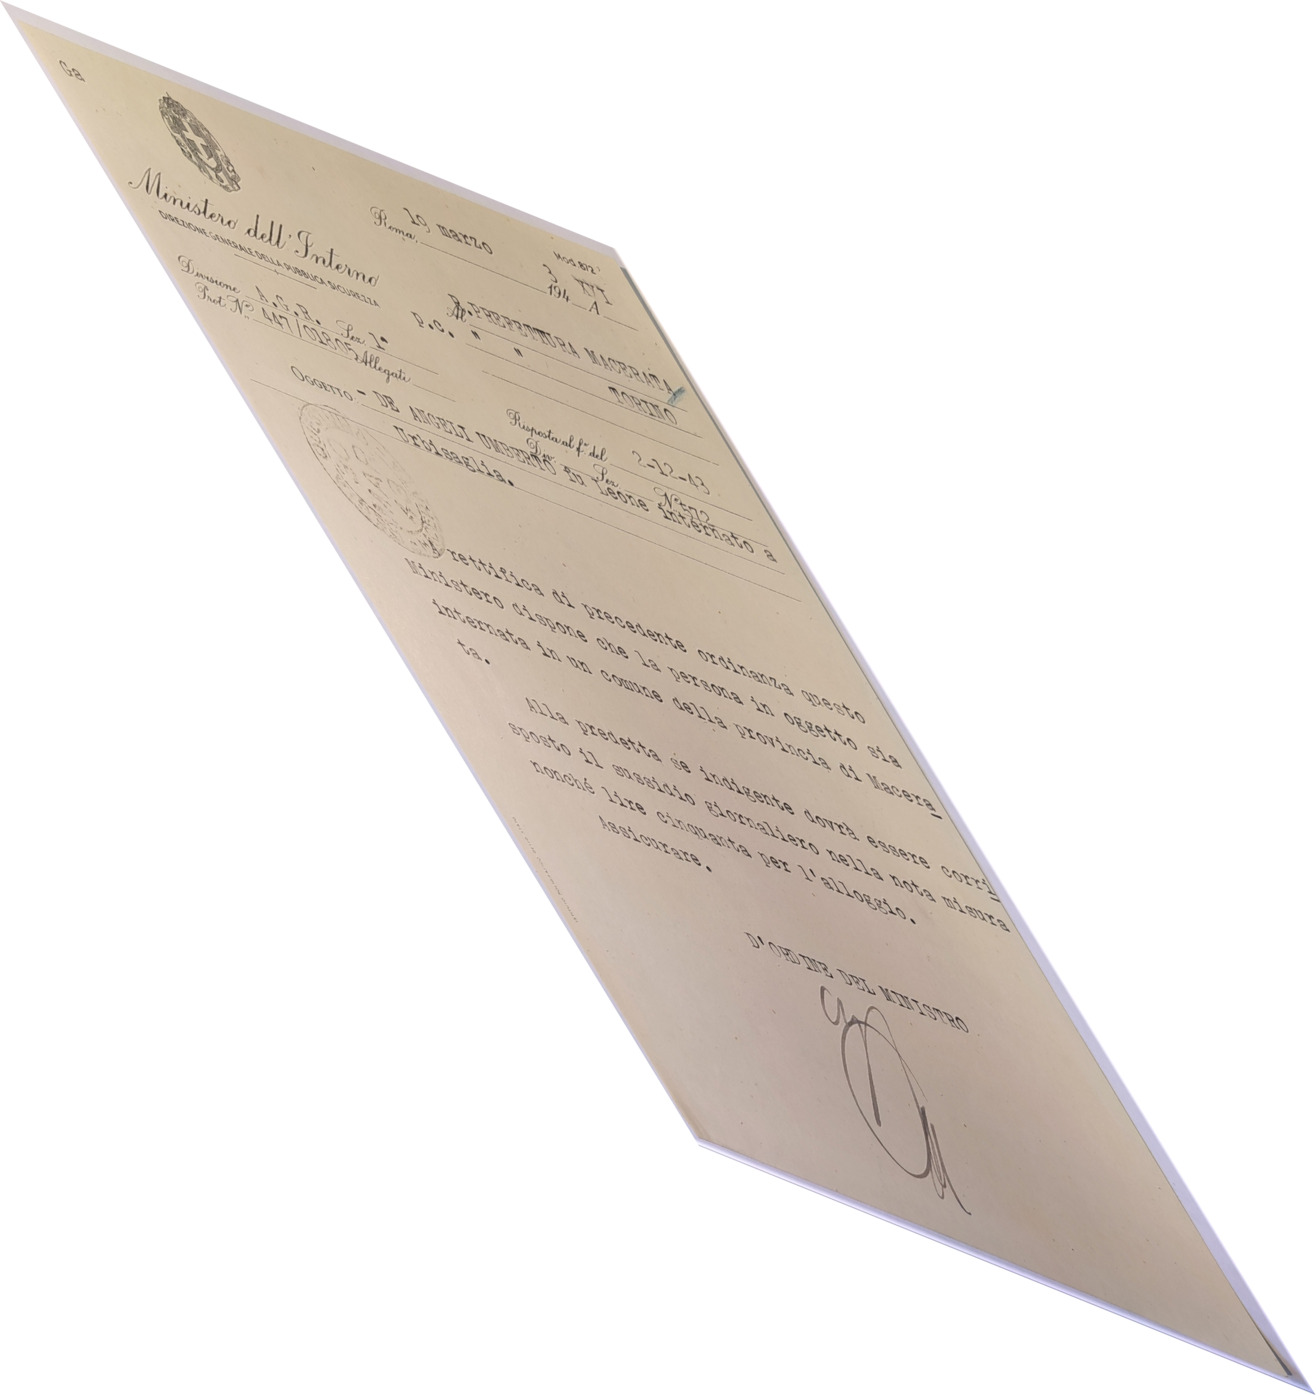stamp: (289, 395, 454, 558)
